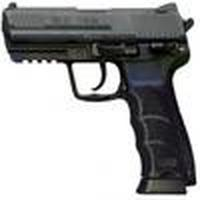gun: (1, 4, 200, 193)
